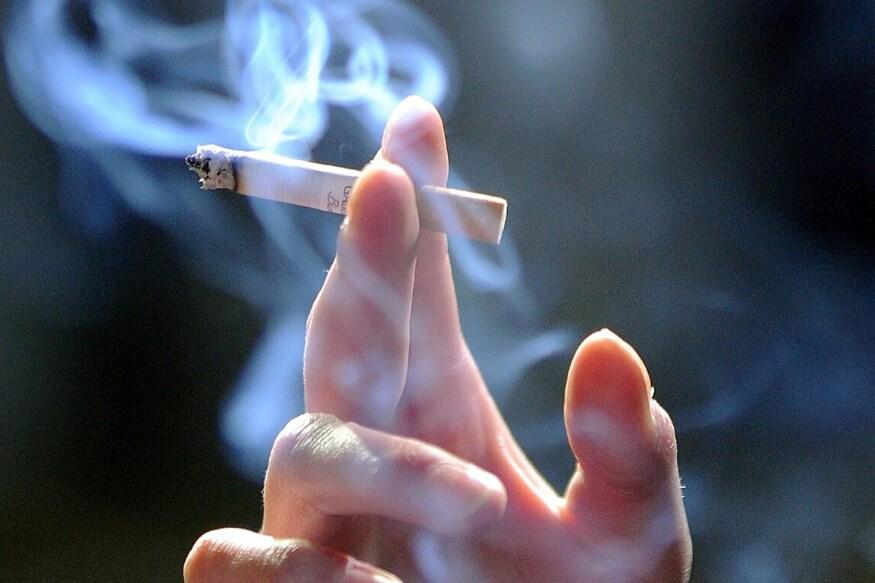smoke: (186, 143, 509, 245)
